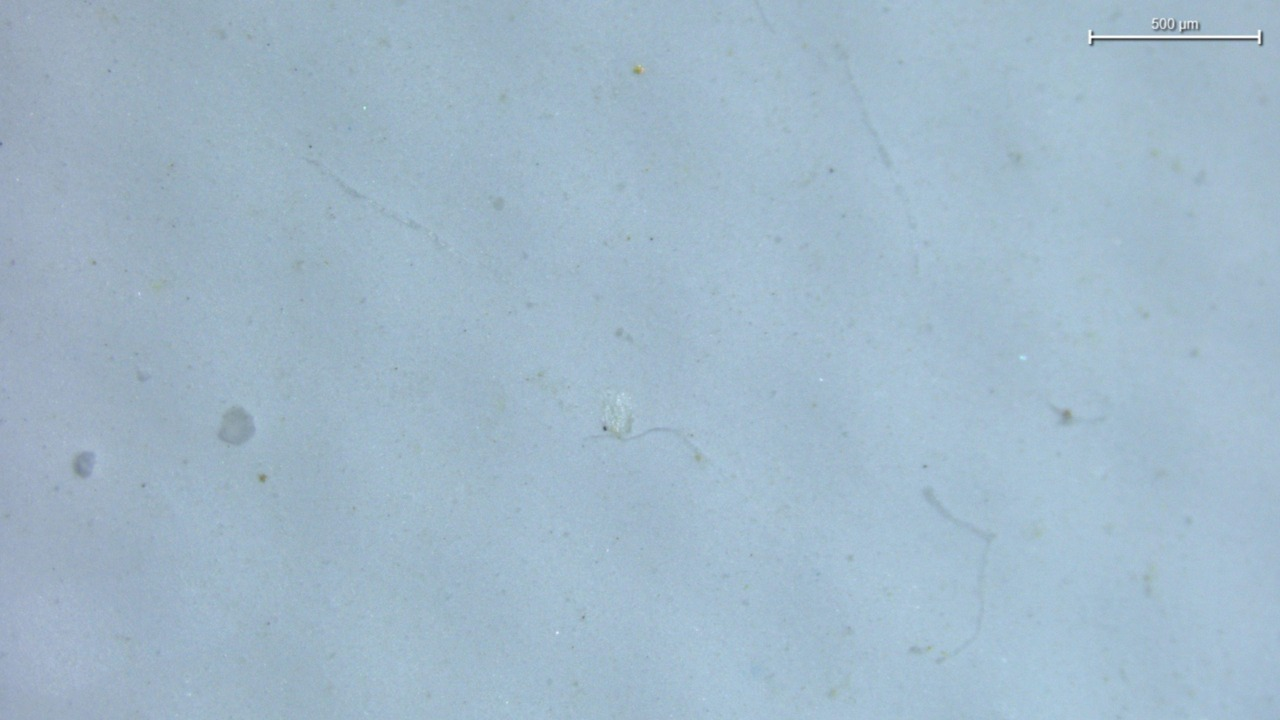microplastic_fragment: (601, 391, 634, 439)
